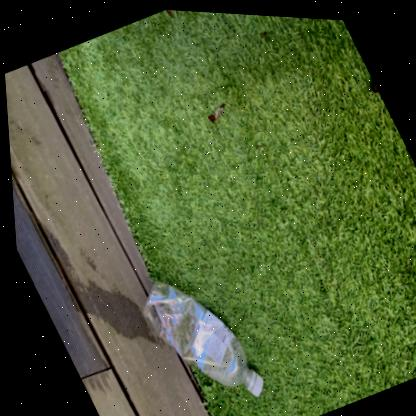Plastic: (139, 281, 257, 394)
